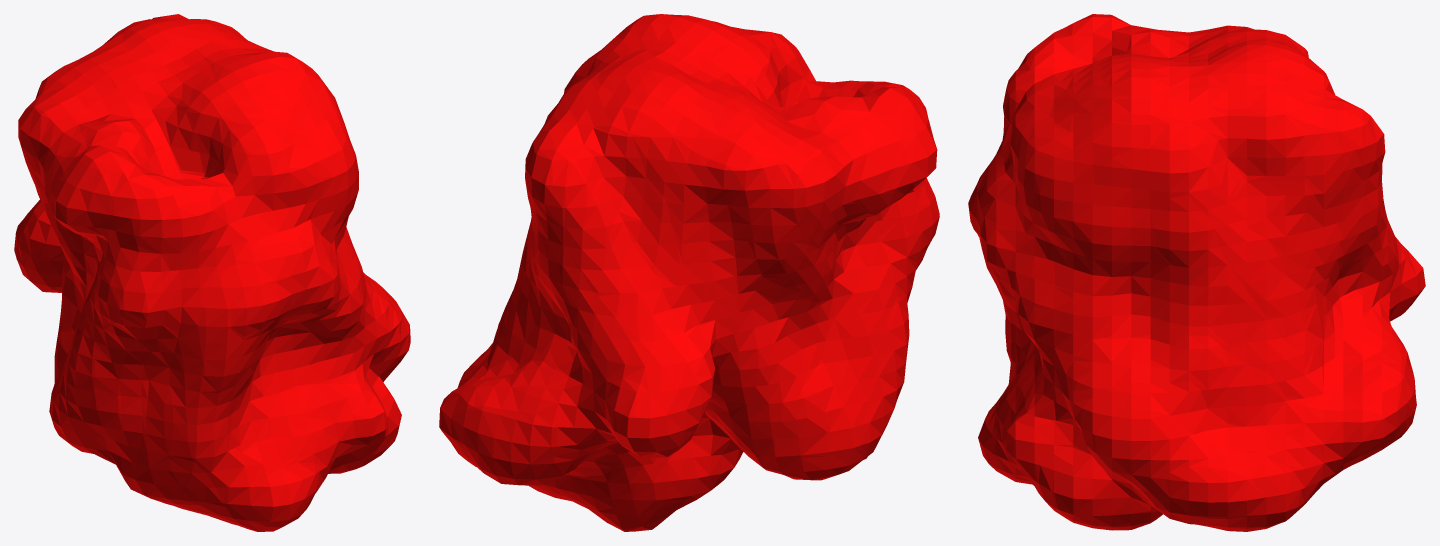
Rendered from yqeG_coarse.dae.
3 views of the same model, side by side, from view 1: azimuth 30°, elevation 25°; view 2: azimuth 150°, elevation 25°; view 3: azimuth 270°, elevation 25° (orthographic). The views are drawn at different scales.
Parts seen in each view (by area): view 1: yqeG; view 2: yqeG; view 3: yqeG.
Part boxes in pixels (box(x1,y1,x2,y2)): yqeG: box(14, 14, 410, 531); yqeG: box(439, 14, 939, 531); yqeG: box(968, 14, 1425, 531).
Size of the model in its own units: 55.53 by 60.7 by 57.15.
